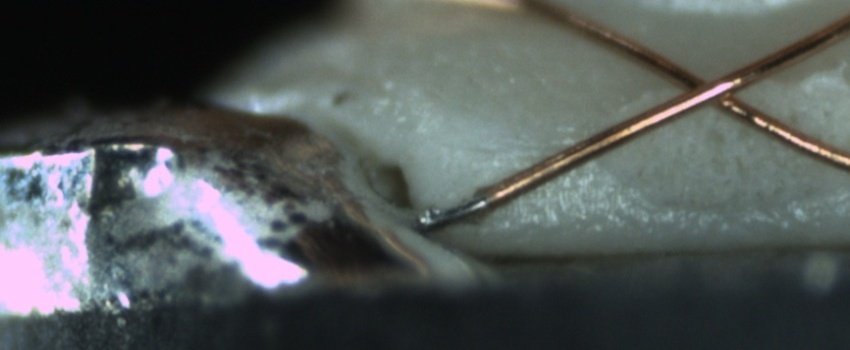CL: (658, 56, 764, 120)
DL: (456, 118, 605, 180)
TS: (416, 195, 491, 231)
TTCW: (418, 181, 521, 234)
